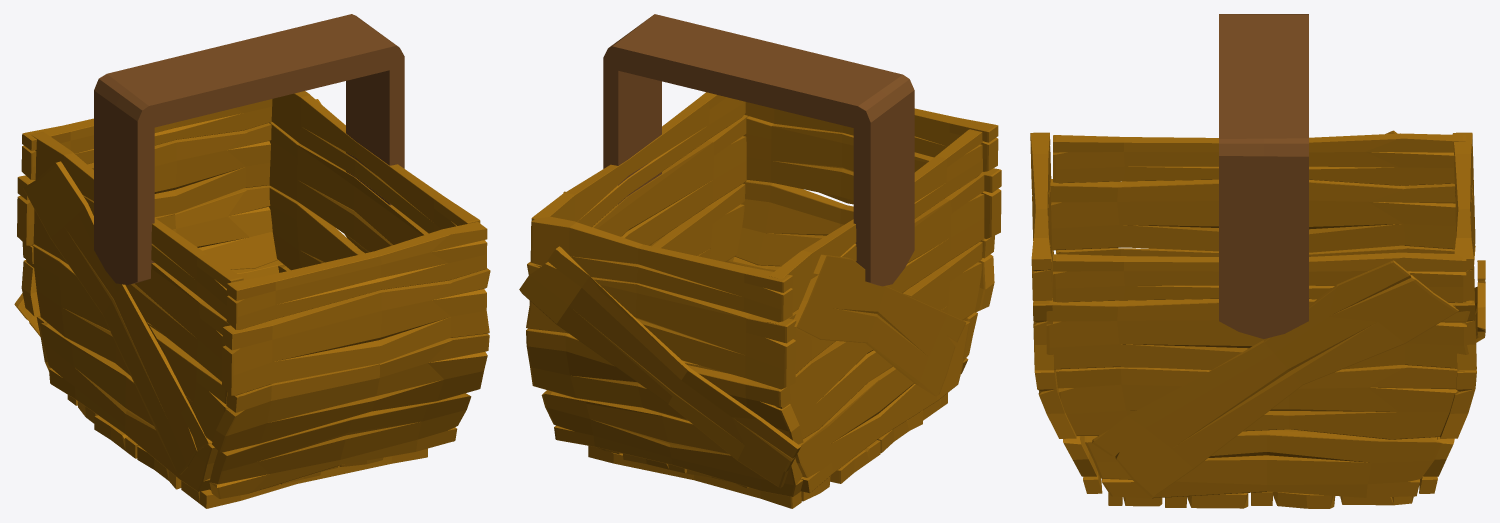
Rendered from basket_2.fbx.
3 renders of one model, left to right at view 1: azimuth 30°, elevation 25°; view 2: azimuth 150°, elevation 25°; view 3: azimuth 270°, elevation 25°, orthographic. The views are drawn at different scales.
Parts seen in each view (by area): view 1: crate mesh, handle; view 2: crate mesh, handle; view 3: crate mesh, handle.
Part boxes in pixels (left/top/right/bottom): crate mesh: left=14, top=91, right=490, bottom=508; handle: left=94, top=14, right=404, bottom=285; crate mesh: left=519, top=92, right=1001, bottom=508; handle: left=603, top=14, right=914, bottom=286; crate mesh: left=1030, top=130, right=1485, bottom=508; handle: left=1219, top=14, right=1308, bottom=338.
Bounding box in the file's own units: 42.95 × 55.75 × 60.82.
